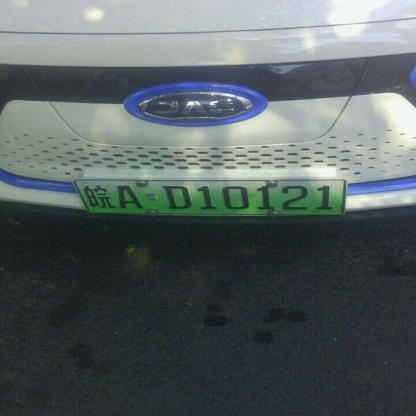lp: (72, 179, 348, 215)
